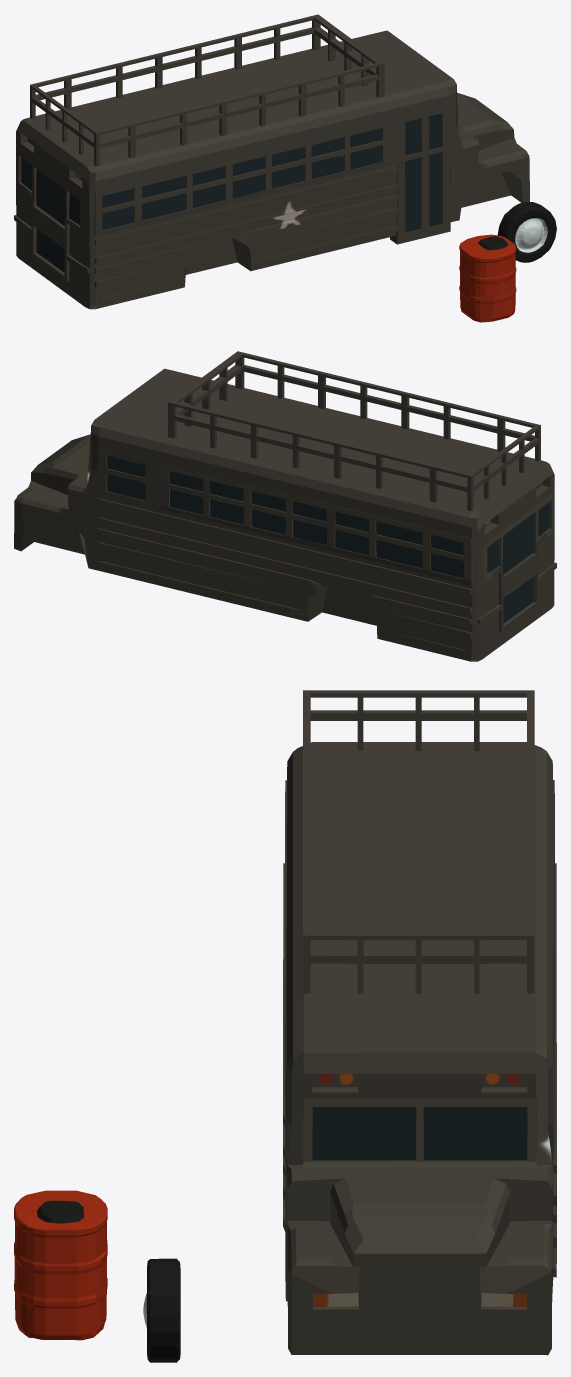
File: bus.fbx
3 renders of one model, top to bottom at view 1: azimuth 30°, elevation 25°; view 2: azimuth 150°, elevation 25°; view 3: azimuth 270°, elevation 25°, orthographic. The views are drawn at different scales.
Visible parts, largest first — view 1: lol.001, Cube.023, boch_lol, wheel_lol1.001; view 2: lol.001, Cube.023; view 3: lol.001, Cube.023, boch_lol, wheel_lol1.001.
Part boxes in pixels (bbox=[...]): lol.001: bbox=[14, 30, 529, 309]; Cube.023: bbox=[30, 14, 384, 166]; boch_lol: bbox=[459, 234, 516, 322]; wheel_lol1.001: bbox=[497, 202, 556, 262]; lol.001: bbox=[14, 368, 556, 661]; Cube.023: bbox=[168, 351, 540, 510]; lol.001: bbox=[283, 742, 556, 1355]; Cube.023: bbox=[303, 690, 534, 993]; boch_lol: bbox=[14, 1190, 107, 1340]; wheel_lol1.001: bbox=[143, 1258, 180, 1362].
Bounding box in the file's own units: 1552 × 685 × 936.
